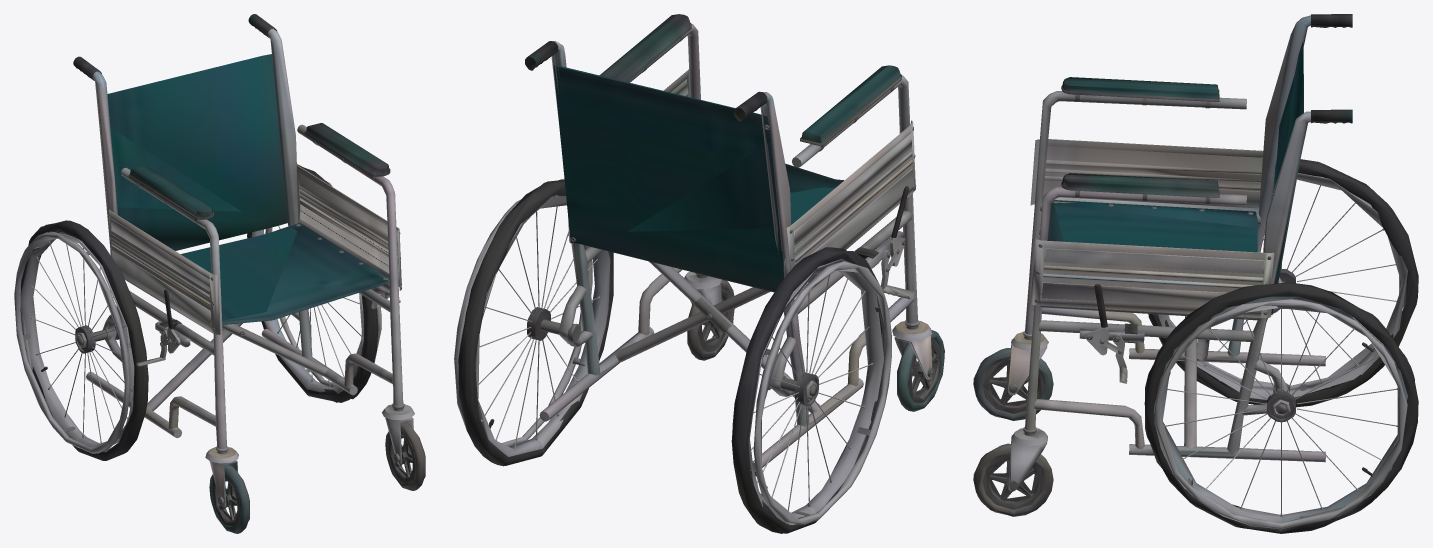
3 renders of one model, left to right at view 1: azimuth 30°, elevation 25°; view 2: azimuth 150°, elevation 25°; view 3: azimuth 270°, elevation 25°, orthographic. The views are drawn at different scales.
Visible parts, largest first — view 1: wheelchair_01; view 2: wheelchair_01; view 3: wheelchair_01.
Boxes of the visible parts, box(x1,y1,x2,y2) form: wheelchair_01: box(14, 14, 425, 533); wheelchair_01: box(454, 14, 944, 533); wheelchair_01: box(973, 14, 1418, 533).
Size of the model in its own units: 0.8241 by 1.1 by 1.09.
Materials: 1 (1 with a texture image).
